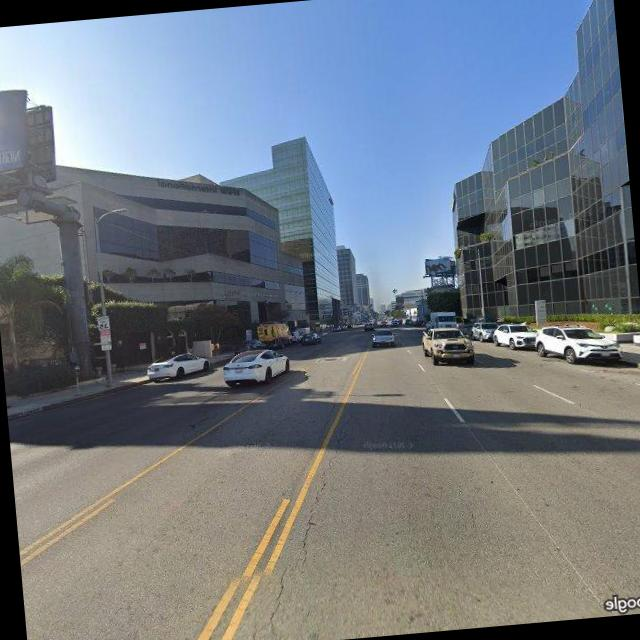pothole: (293, 452, 346, 564), (248, 565, 295, 640)
